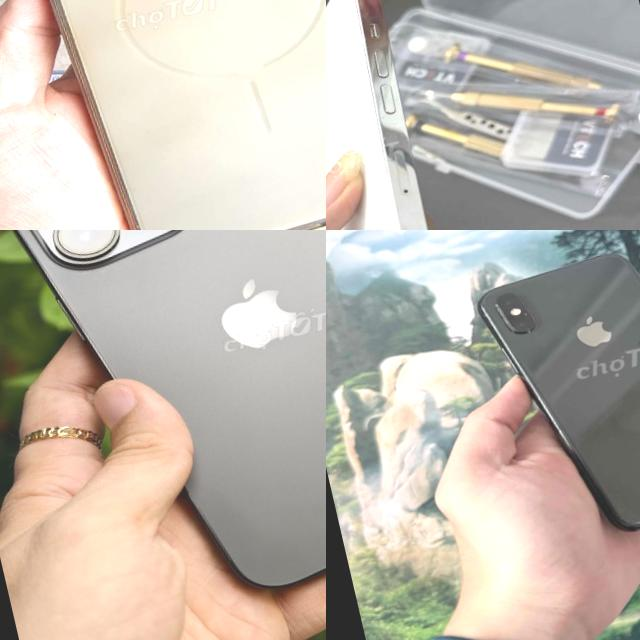gen_14: (0, 230, 326, 629), (0, 0, 326, 230), (326, 0, 486, 230)
gen_x_xs: (478, 253, 640, 529)
scratch: (515, 305, 535, 323), (598, 374, 618, 388)
